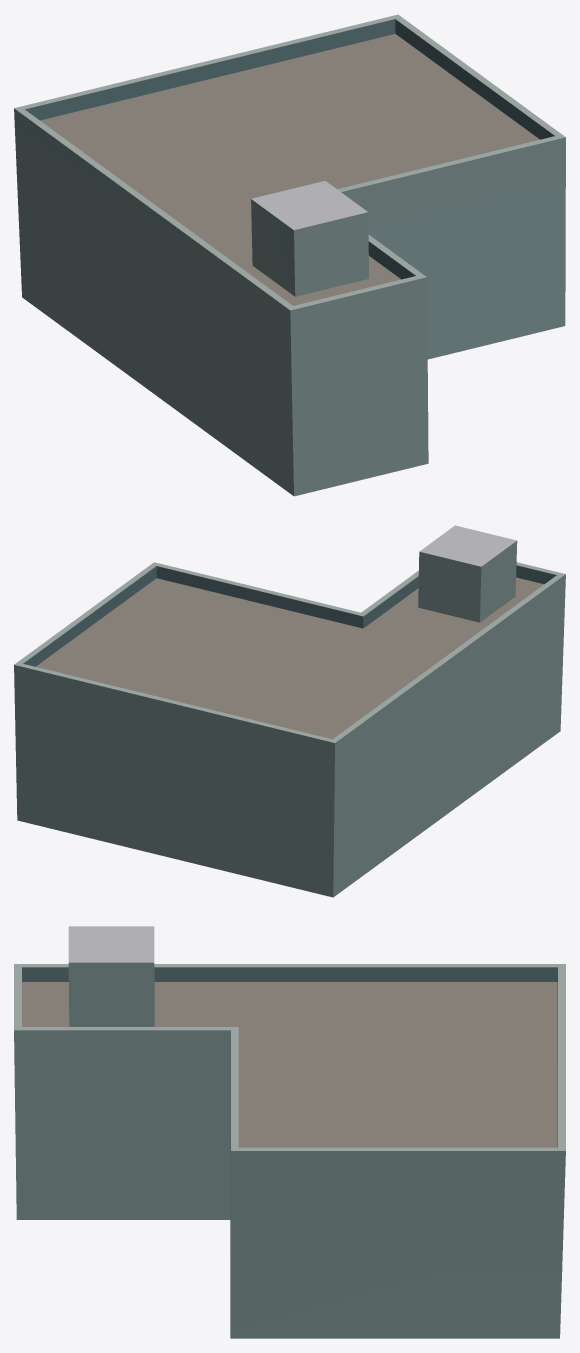
The model's file is Building_RoofPart01.fbx.
The picture shows the model from 3 angles, top to bottom: view 1: azimuth 30°, elevation 25°; view 2: azimuth 150°, elevation 25°; view 3: azimuth 270°, elevation 25°; orthographic projection. The views are drawn at different scales.
Visible parts, largest first — view 1: Building_roofpart01; view 2: Building_roofpart01; view 3: Building_roofpart01.
Part boxes in pixels (<box>): Building_roofpart01: <box>14,14,565,496</box>; Building_roofpart01: <box>14,525,565,897</box>; Building_roofpart01: <box>14,926,565,1338</box>.
Bounding box in the file's own units: 364 × 218 × 453.
